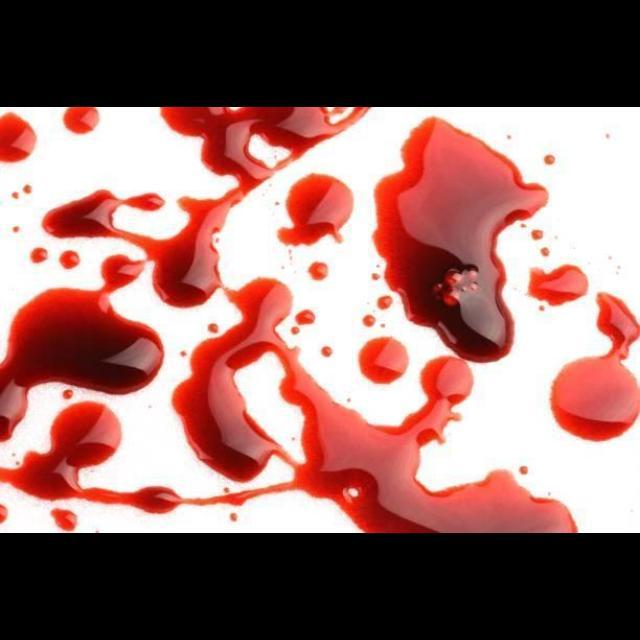blood: (175, 280, 578, 534), (45, 107, 368, 307), (375, 117, 549, 362), (0, 403, 297, 515), (0, 255, 163, 441), (552, 293, 640, 442), (278, 174, 355, 246), (530, 265, 588, 306), (360, 338, 408, 384), (511, 218, 558, 257), (0, 112, 36, 161), (63, 108, 98, 133), (50, 511, 76, 532), (59, 250, 79, 269), (308, 262, 328, 280), (29, 247, 48, 263), (296, 310, 316, 325), (378, 295, 394, 310), (363, 314, 376, 327), (321, 346, 334, 357), (1, 505, 7, 525), (545, 154, 556, 164), (22, 184, 31, 193), (208, 325, 218, 333), (63, 391, 73, 399), (230, 514, 237, 523), (10, 192, 18, 199), (292, 328, 300, 334), (12, 225, 18, 232), (180, 351, 187, 357)
